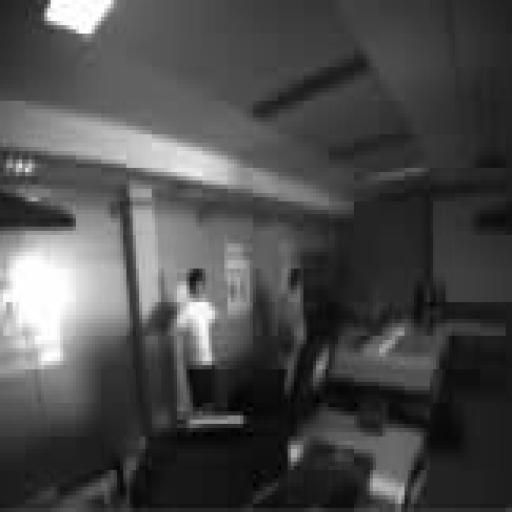human: (177, 269, 218, 407), (279, 269, 306, 394)
